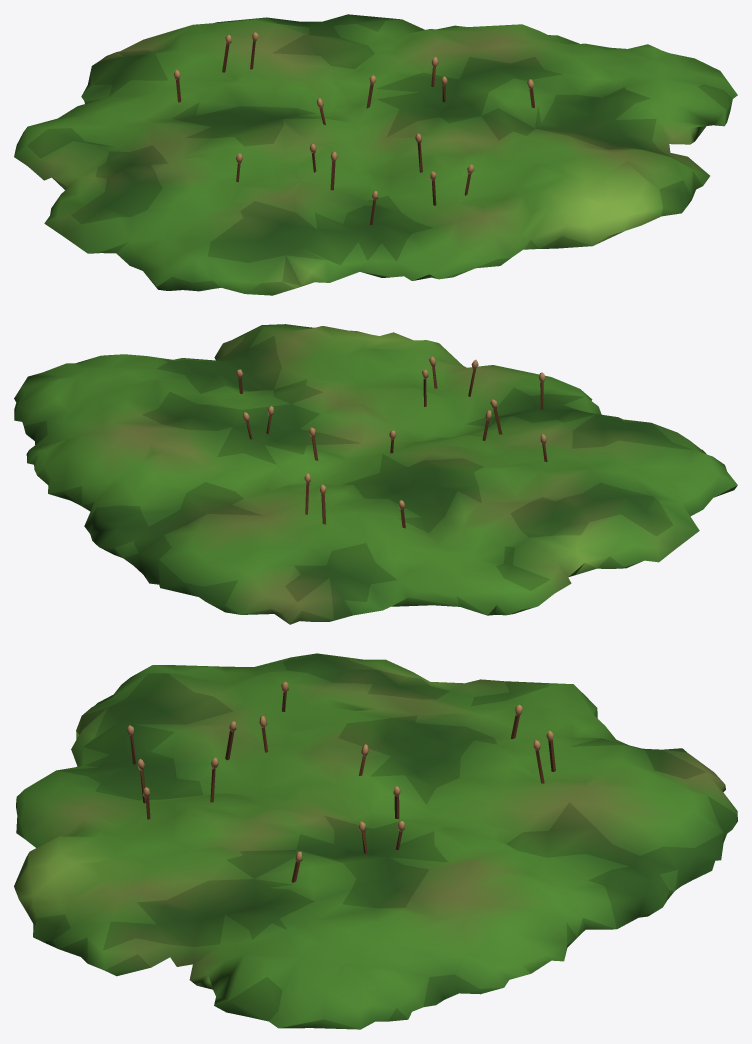
File: canopy_gc_moss_b.glb
3 renders of one model, top to bottom at view 1: azimuth 30°, elevation 25°; view 2: azimuth 150°, elevation 25°; view 3: azimuth 270°, elevation 25°, orthographic. The views are drawn at different scales.
Visible parts, largest first — view 1: canopy_gc_moss_b; view 2: canopy_gc_moss_b; view 3: canopy_gc_moss_b.
Boxes of the visible parts, x1,y1,x2,y2 form: canopy_gc_moss_b: (14, 14, 737, 295); canopy_gc_moss_b: (14, 324, 737, 624); canopy_gc_moss_b: (14, 653, 737, 1029).
Bounding box in the file's own units: 8.46 × 0.9958 × 7.08.
